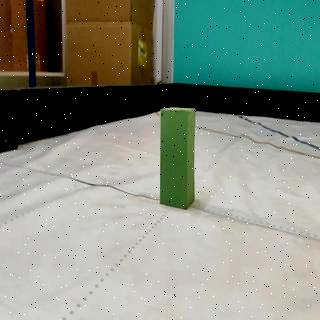greenbox: (158, 106, 196, 210)
